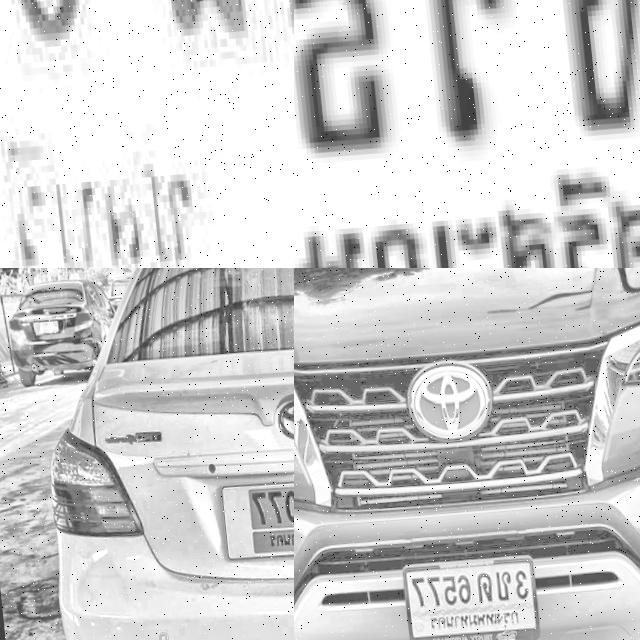license-plate: (294, 0, 640, 268), (0, 0, 294, 268), (388, 552, 530, 640), (207, 476, 294, 575)
